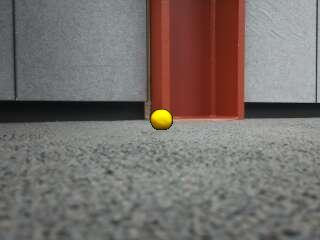lemon: (150, 110, 172, 130)
